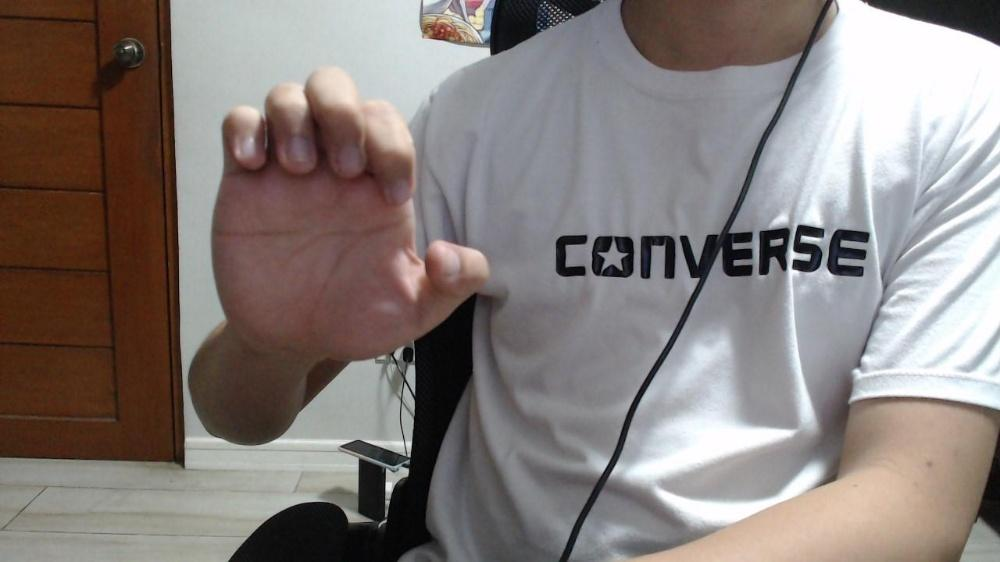e: (208, 66, 491, 363)
